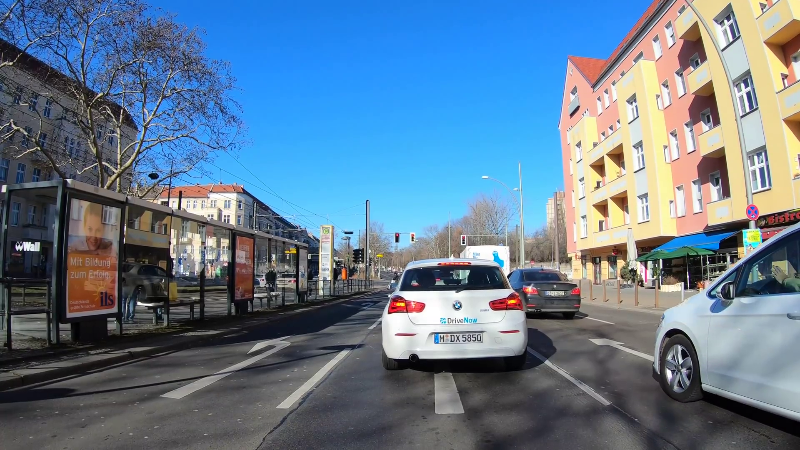Plate: (433, 331, 485, 344)
